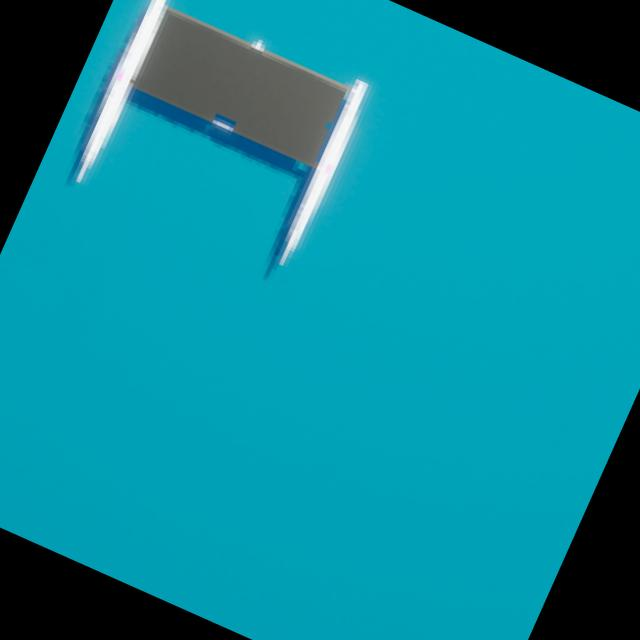boat: (49, 0, 383, 284)
drone: (135, 13, 342, 168)
